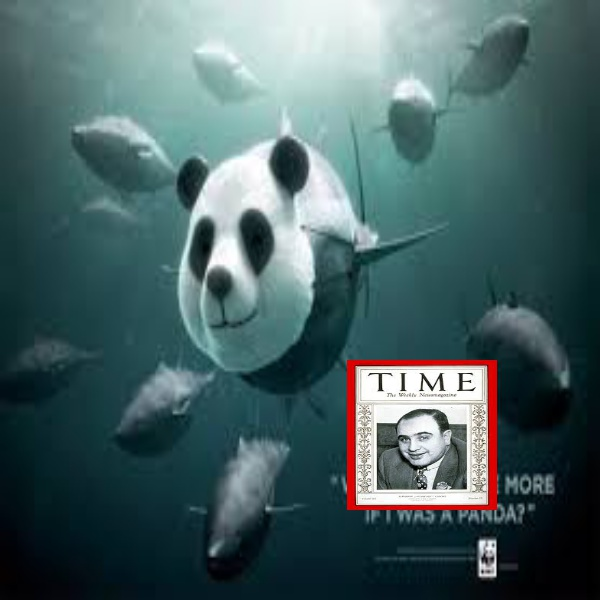time_cover: (343, 354, 497, 516)
